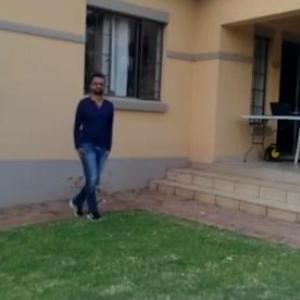follow: (65, 70, 115, 220)
